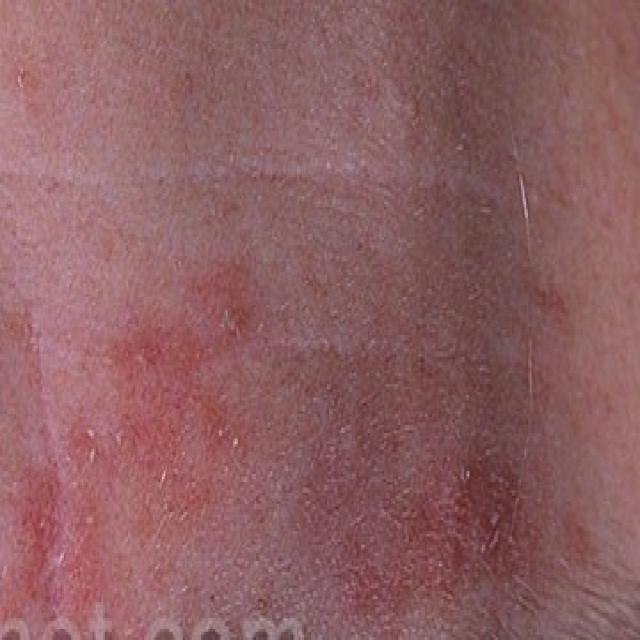Rosacea: (26, 295, 411, 596)
